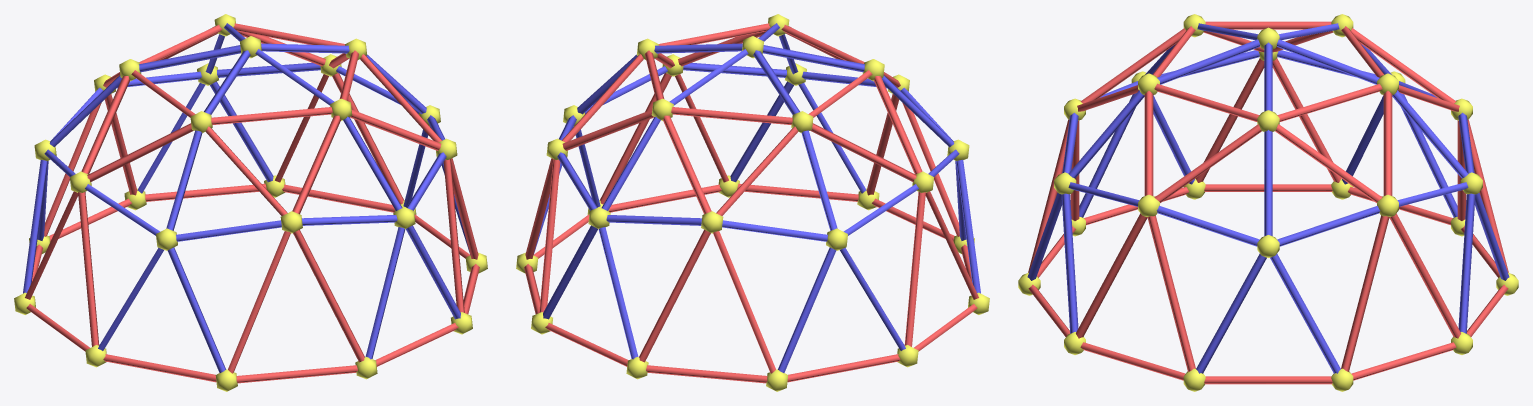
File: SM_Escalada.fbx
3 renders of one model, left to right at view 1: azimuth 30°, elevation 25°; view 2: azimuth 150°, elevation 25°; view 3: azimuth 270°, elevation 25°, orthographic. The views are drawn at different scales.
Parts seen in each view (by area): view 1: SM_EscalaEscala; view 2: SM_EscalaEscala; view 3: SM_EscalaEscala.
Boxes of the visible parts, x1,y1,x2,y2 form: SM_EscalaEscala: (14,14,487,391); SM_EscalaEscala: (516,14,989,391); SM_EscalaEscala: (1018,14,1518,391).
Size of the model in its own units: 188 by 116 by 197.
